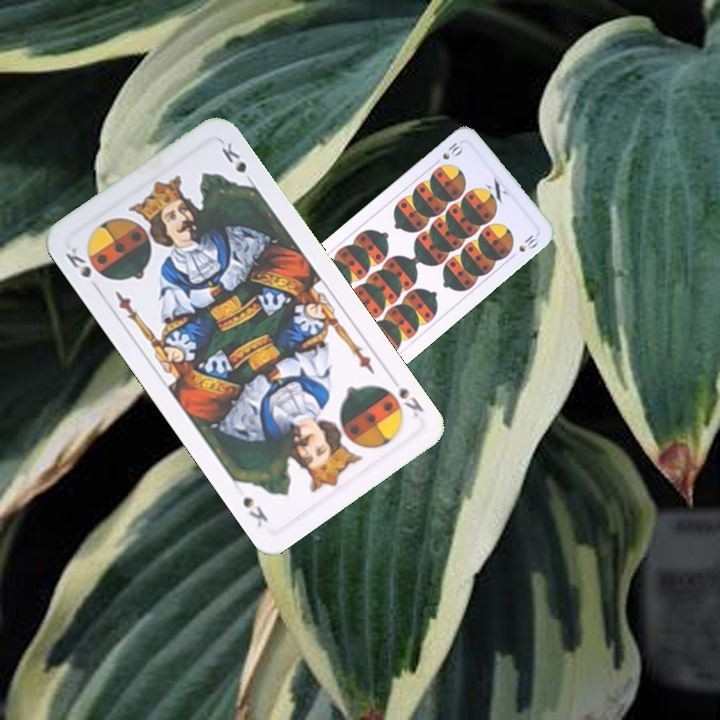S10: (431, 138, 466, 168)
SK: (385, 371, 427, 420), (61, 242, 94, 281)
